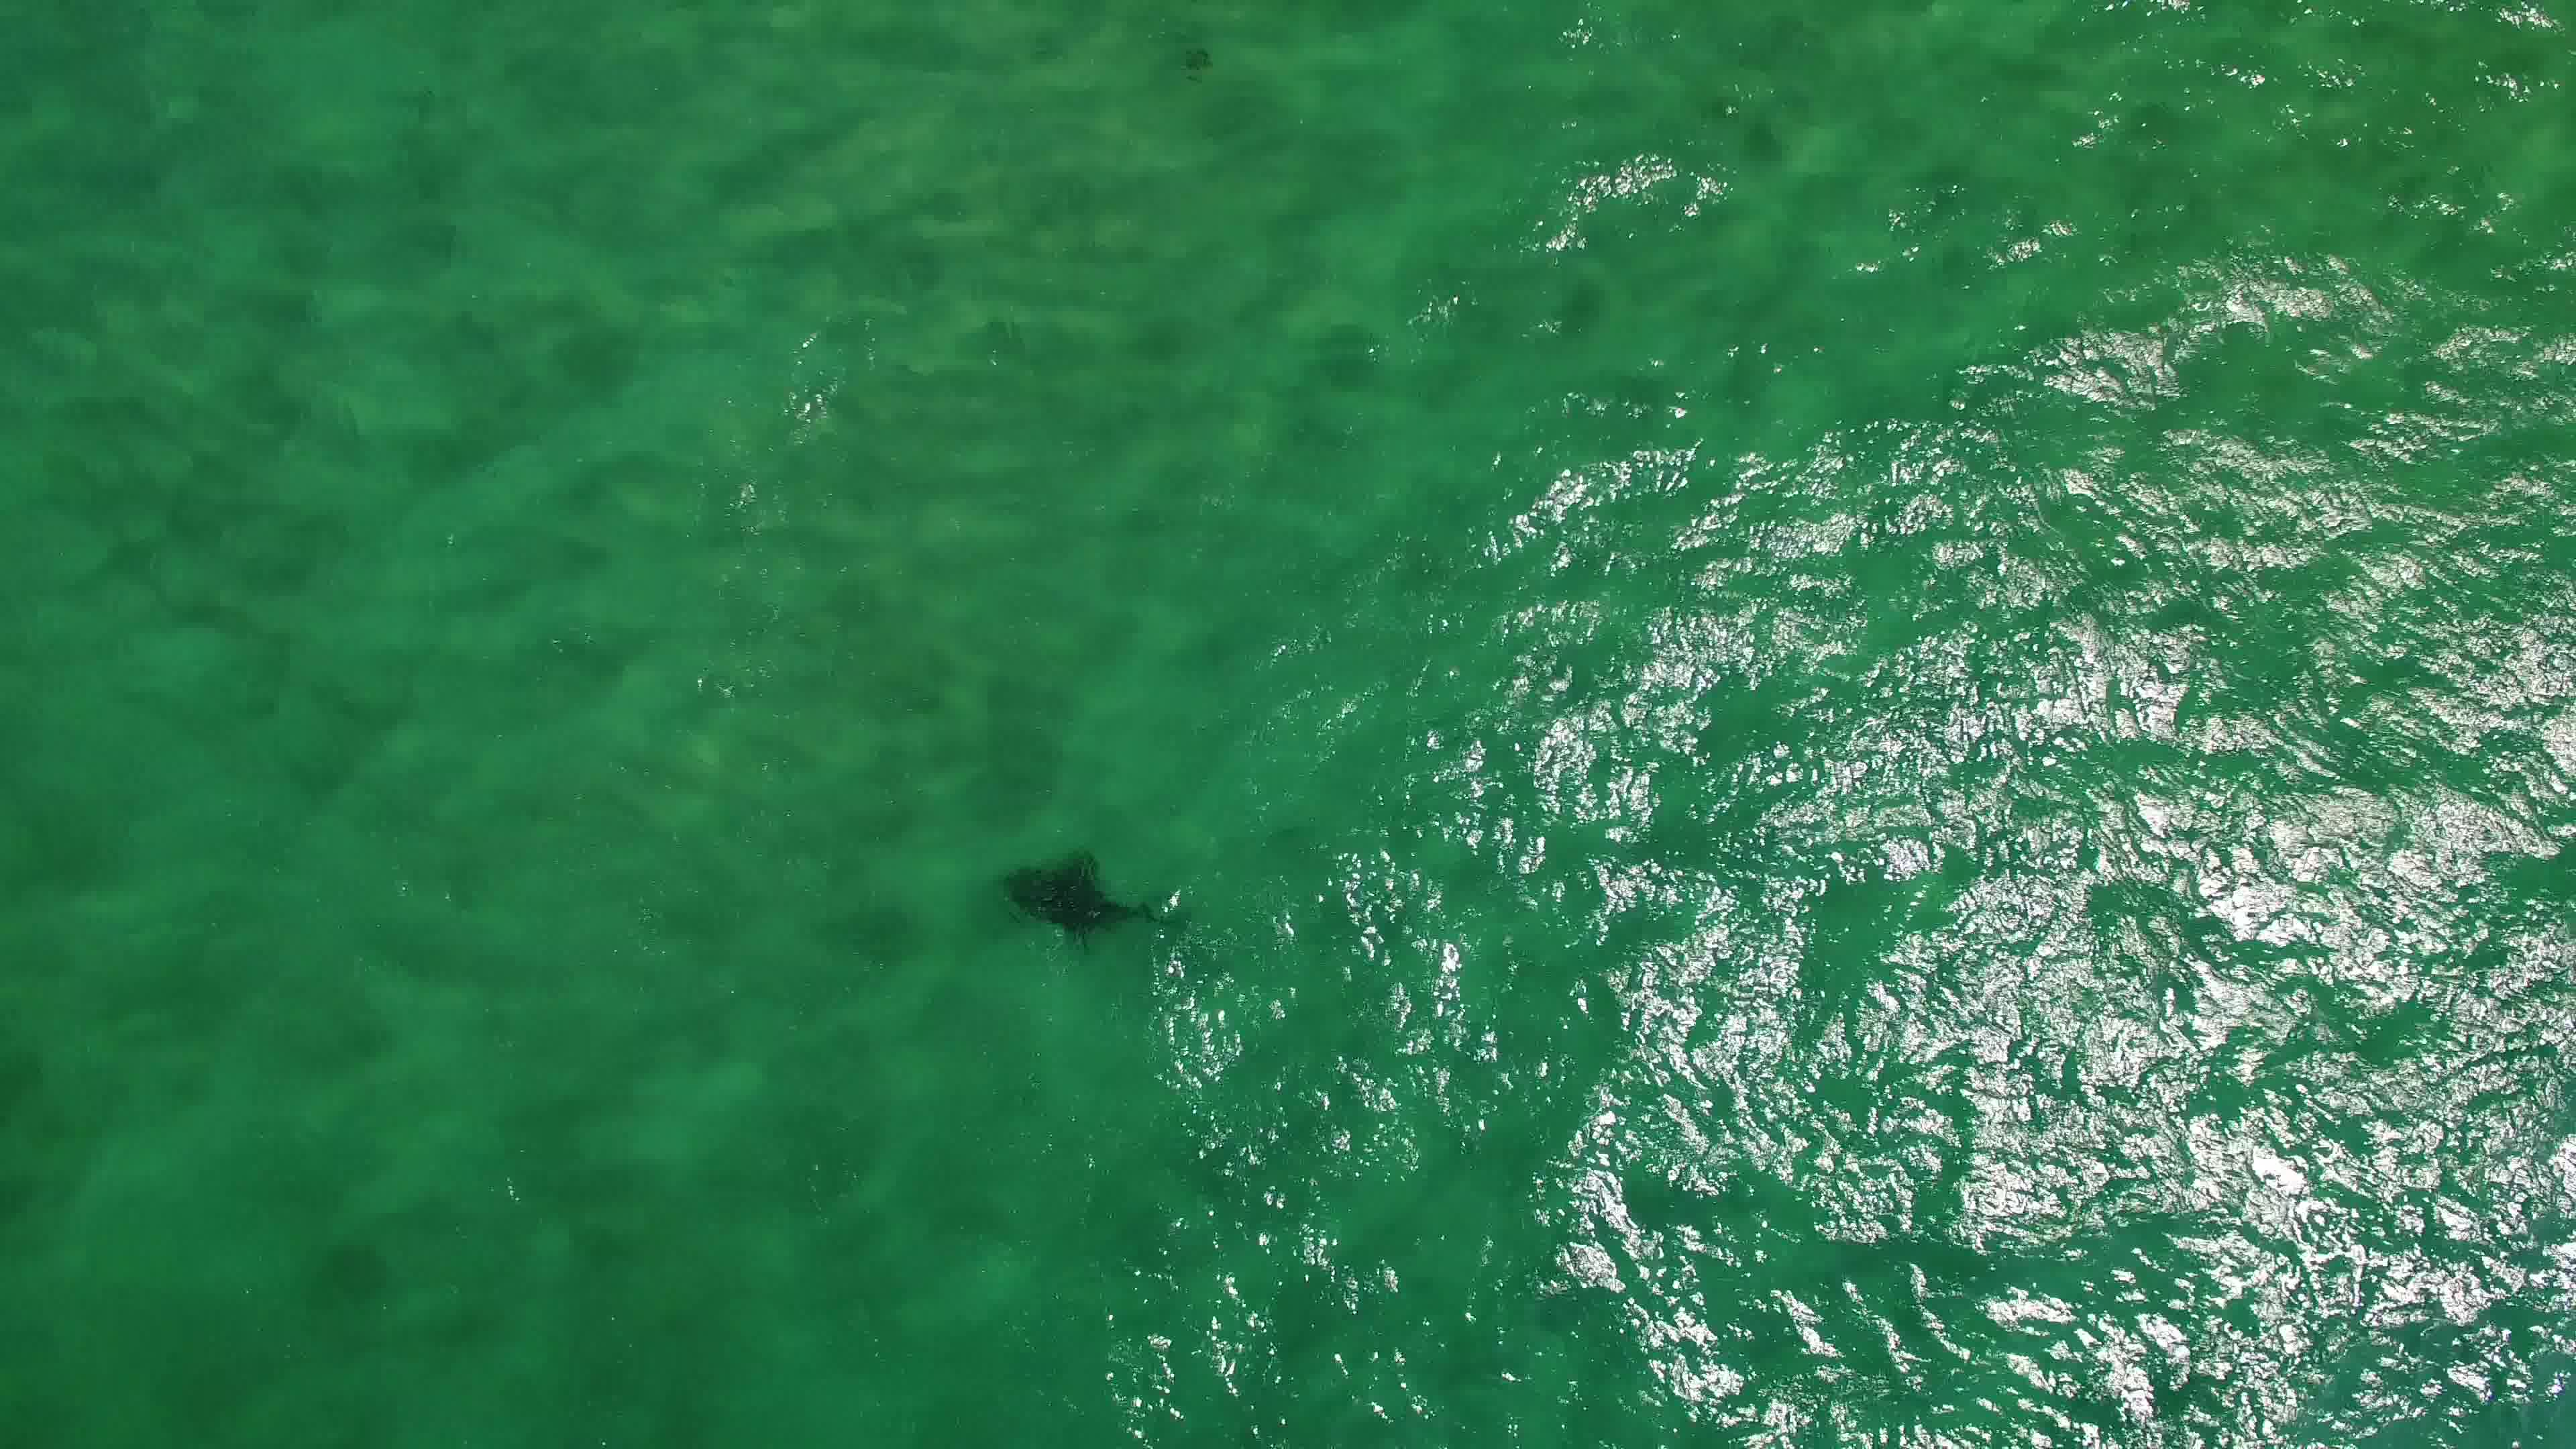shark: (996, 839, 1191, 950)
